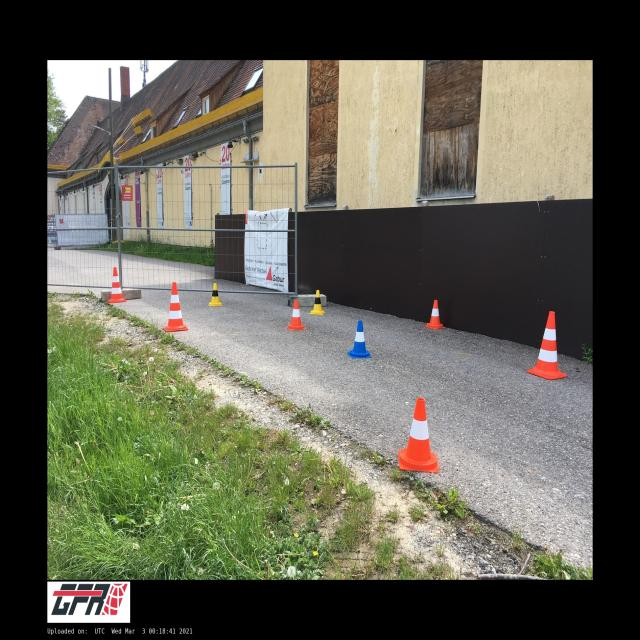blue_cone: (348, 320, 372, 358)
large_orange_cone: (527, 311, 567, 380), (162, 282, 188, 331), (107, 267, 126, 302)
orange_cone: (399, 398, 439, 472), (424, 300, 446, 329), (286, 300, 304, 329)
yellow_cone: (310, 290, 326, 315), (209, 282, 222, 306)
